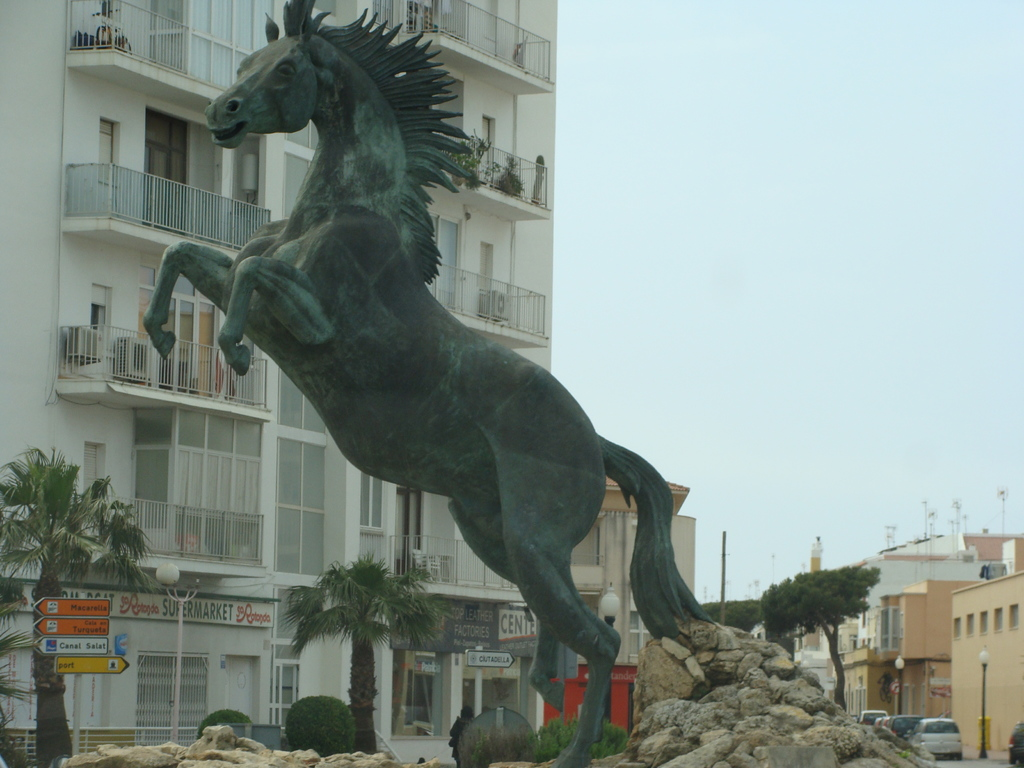Tree: (0, 444, 147, 767), (279, 550, 440, 750), (757, 563, 877, 709), (696, 598, 755, 629)
